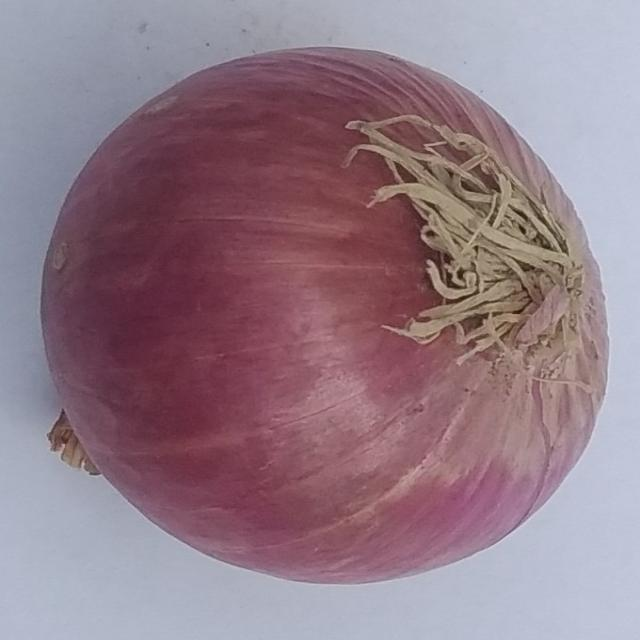onion: (33, 42, 613, 592)
